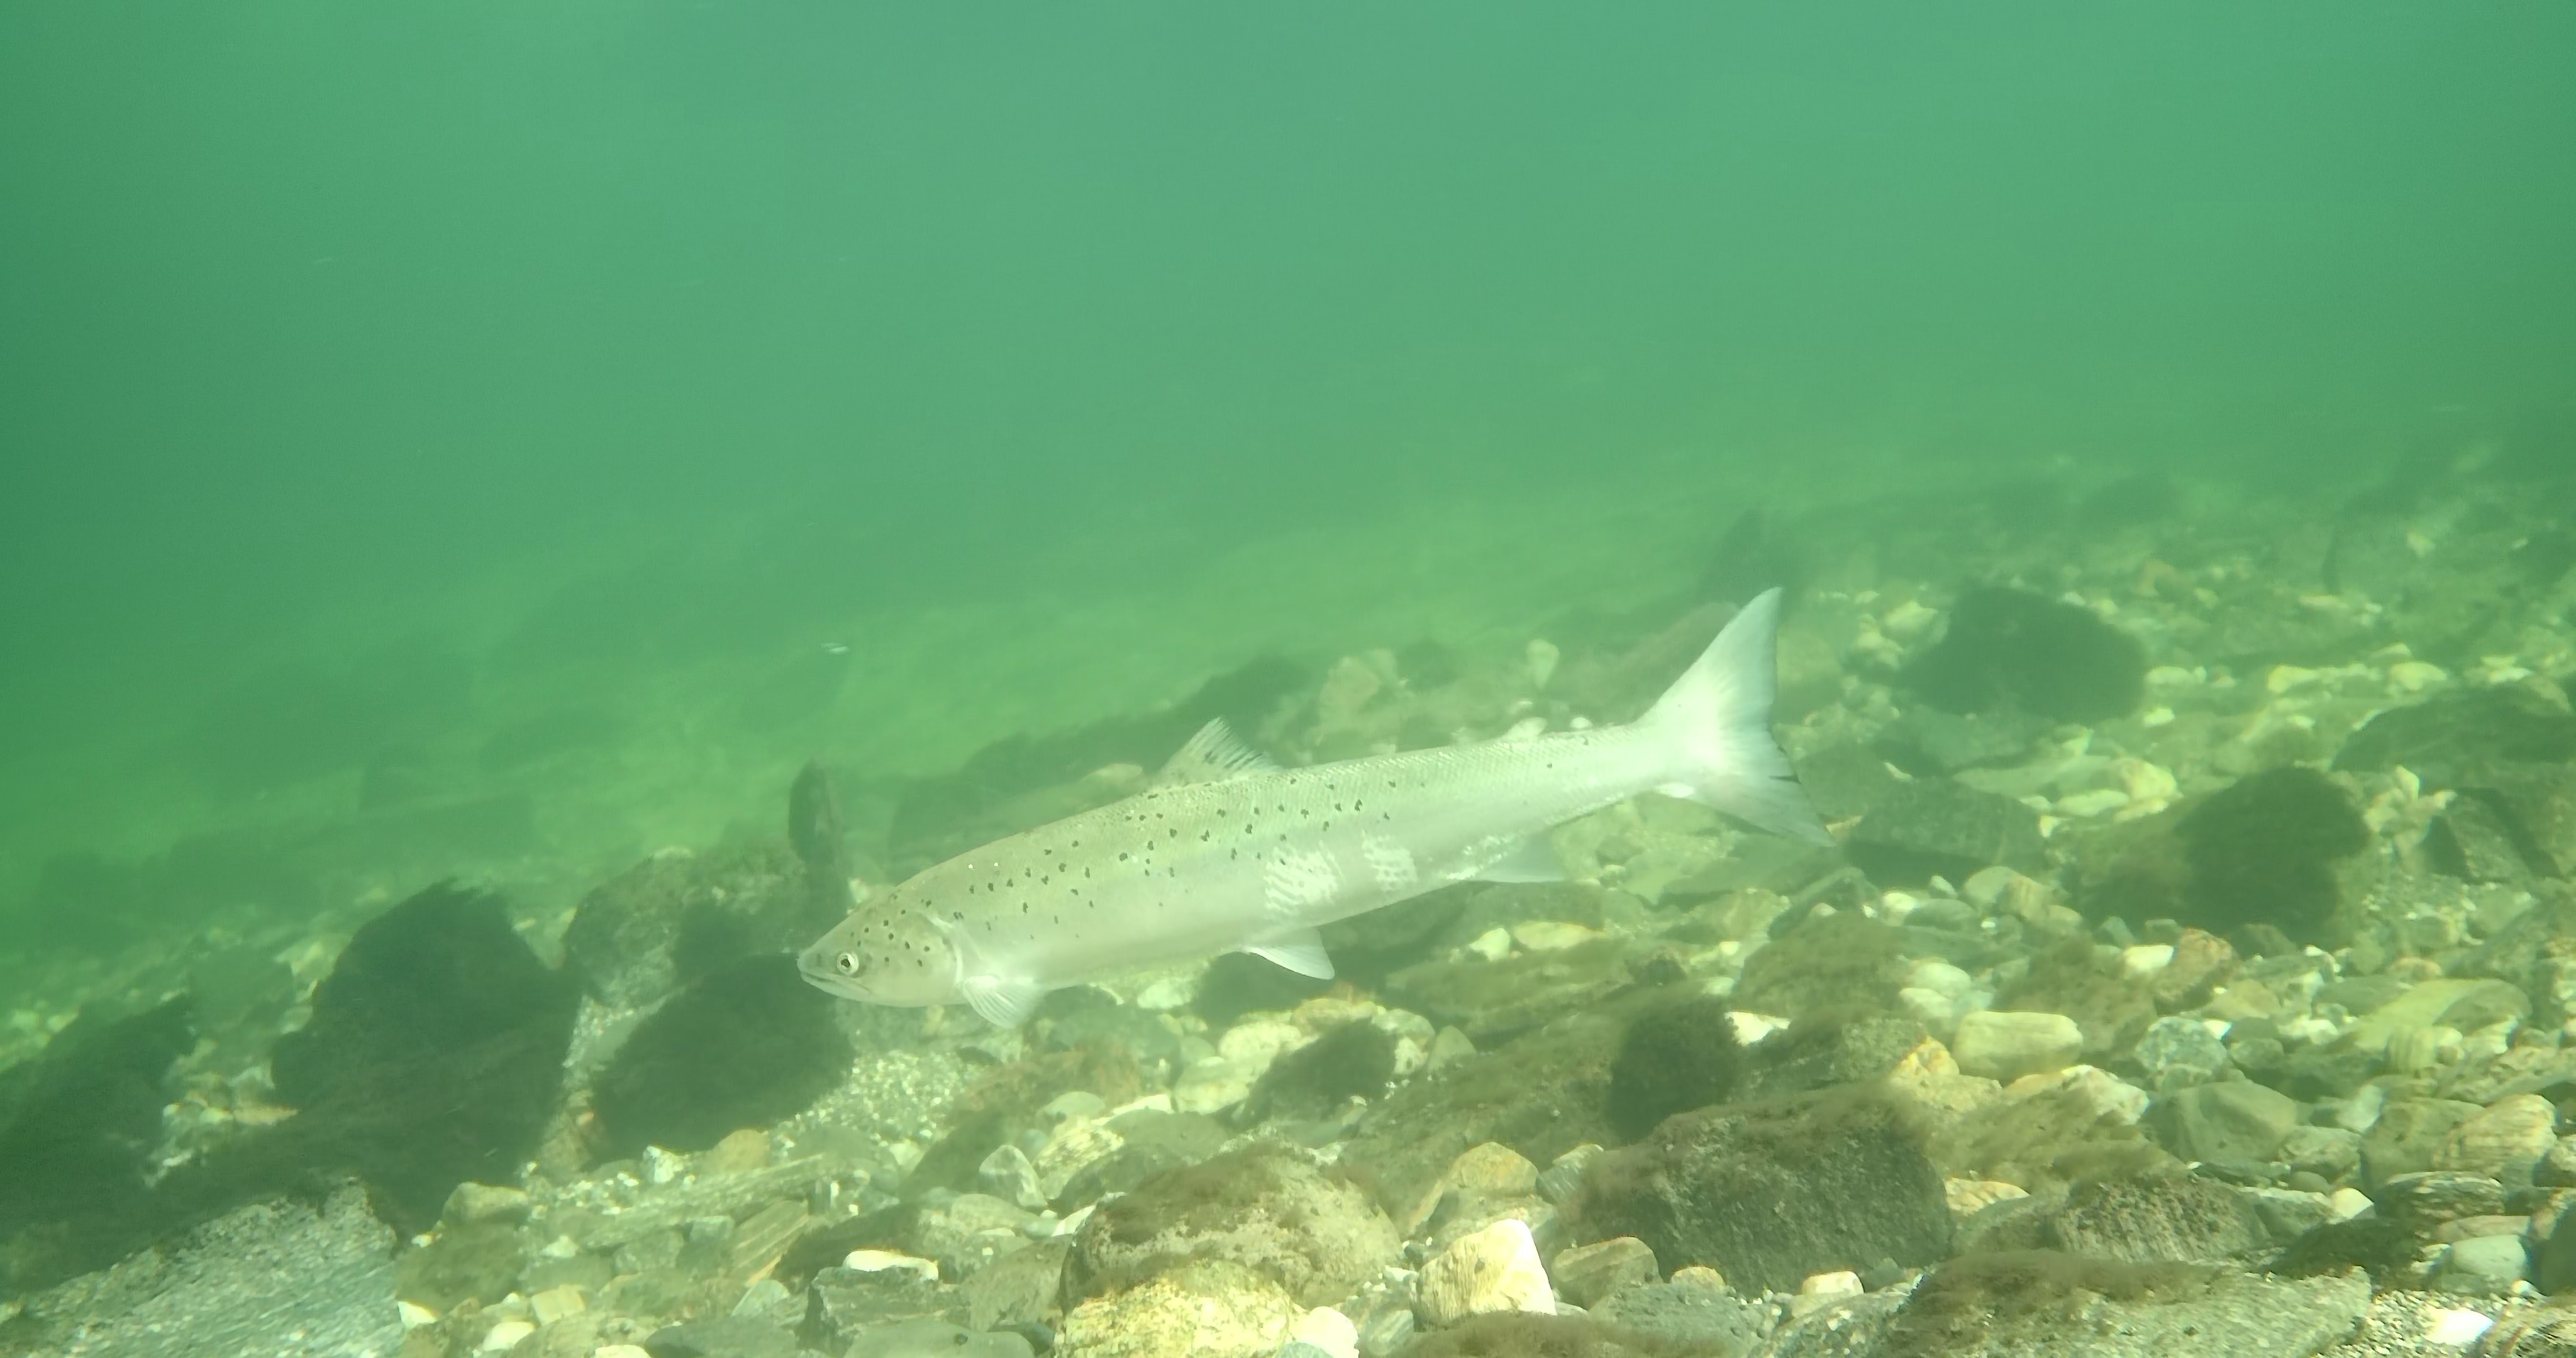salmon: (794, 584, 1843, 1029)
